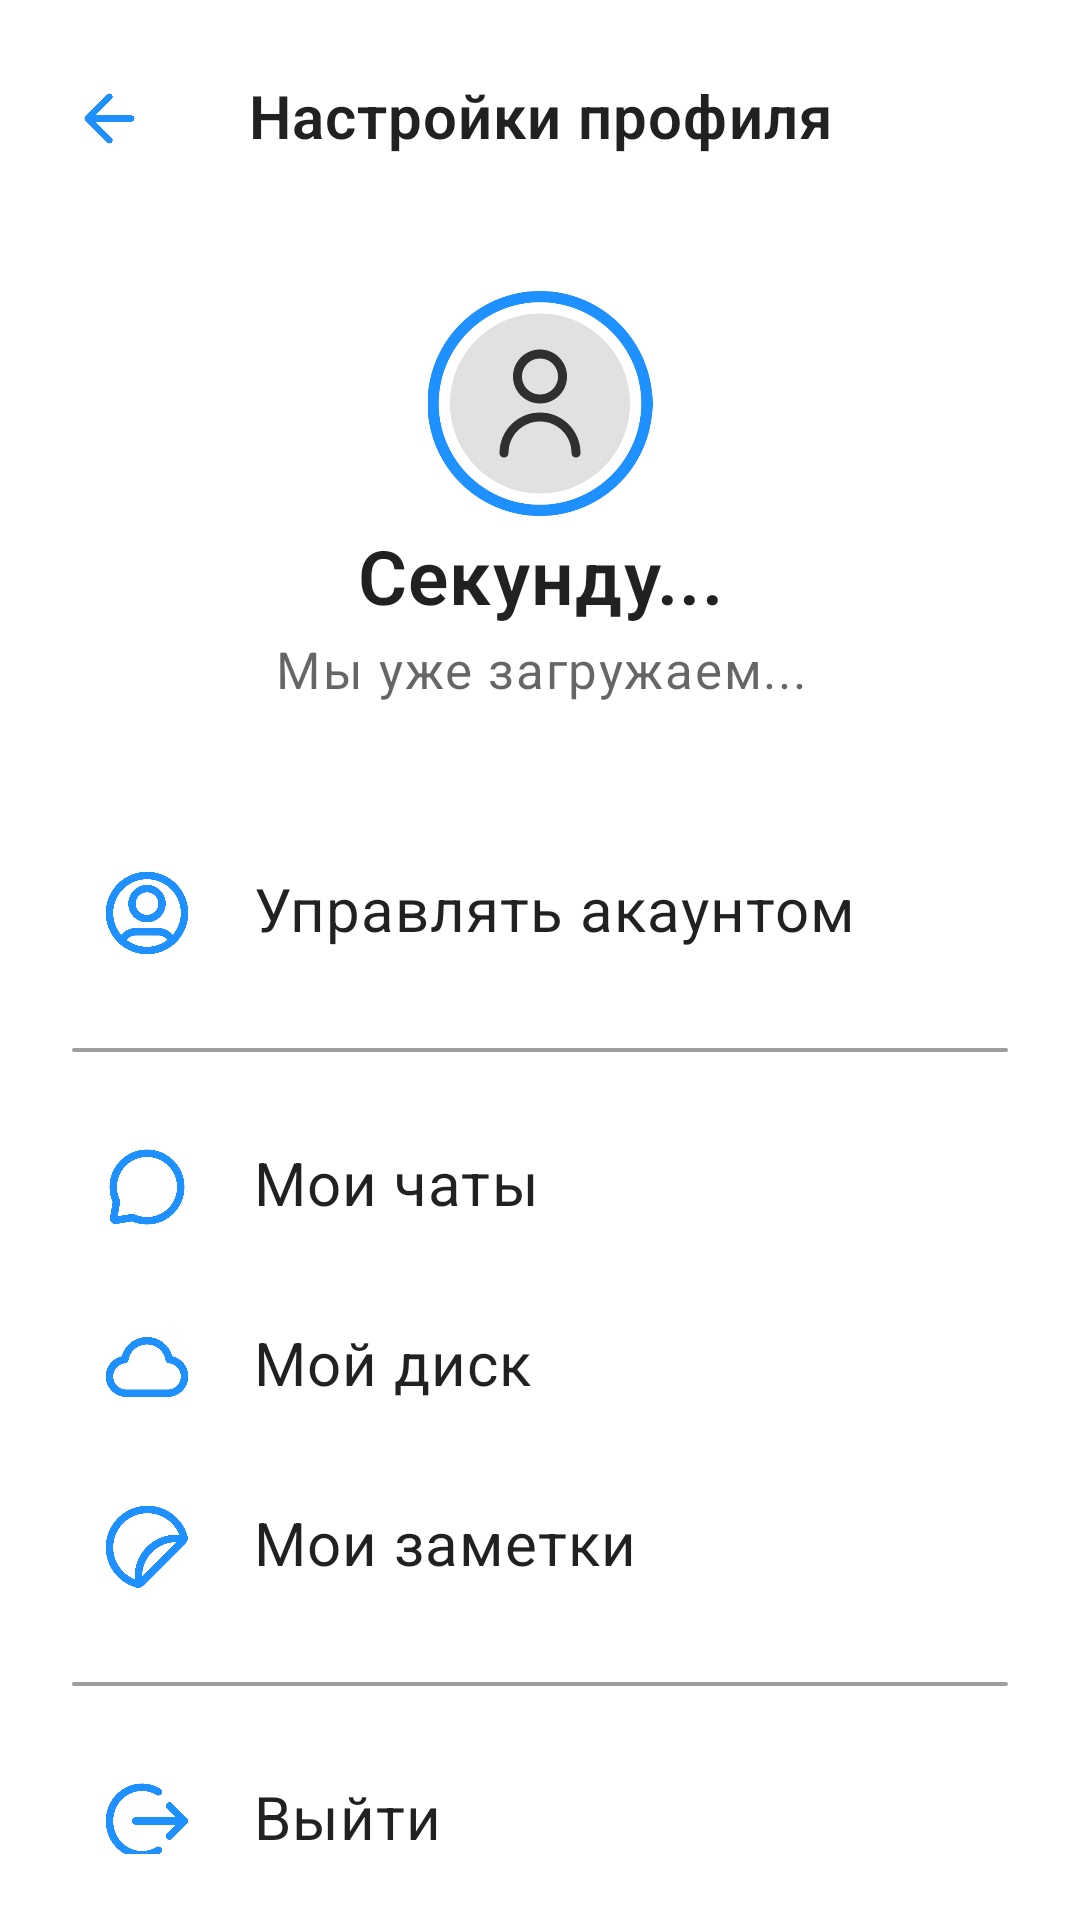

Where to tap for icons on this 1080x1920 app screen, as [x,y]:
arrow left: [109,118]
settings account: [147,913]
settings chats: [147,1187]
settings disk: [147,1367]
settings notes: [147,1547]
user: [540,403]
